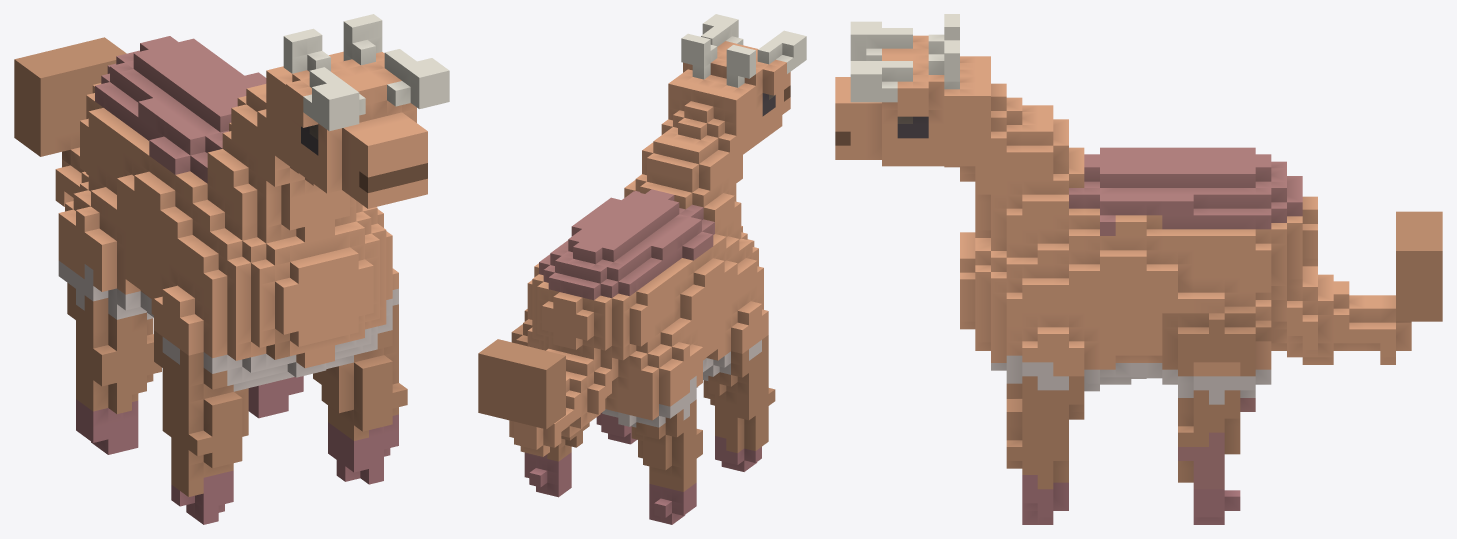
File: draconic-42-juvenile.glb
3 renders of one model, left to right at view 1: azimuth 30°, elevation 25°; view 2: azimuth 150°, elevation 25°; view 3: azimuth 270°, elevation 25°, orthographic. The views are drawn at different scales.
Parts seen in each view (by area): view 1: body, head, legFL, neck, legBL, legFR, tailTip, hornRight, hornLeft, hornNubRight, hornNubLeft, legBR (+2 smaller); view 2: body, neck, tailTip, legFL, legBL, head, tail, legBR, hornLeft, hornRight, hornNubRight, hornNubLeft (+2 smaller); view 3: body, neck, head, tail, legFR, legBR, tailTip, hornRight, hornLeft, browRight, hornNubRight, hornNubLeft (+1 smaller).
Part boxes in pixels (bbox=[...]): body: bbox=[58, 36, 398, 391]; head: bbox=[266, 51, 427, 208]; legFL: bbox=[154, 330, 248, 524]; neck: bbox=[207, 62, 356, 230]; legBL: bbox=[67, 283, 161, 454]; legFR: bbox=[313, 304, 407, 484]; tailTip: bbox=[14, 37, 126, 164]; hornRight: bbox=[343, 49, 449, 109]; hornLeft: bbox=[303, 67, 365, 131]; hornNubRight: bbox=[343, 14, 382, 65]; hornNubLeft: bbox=[283, 28, 330, 73]; legBR: bbox=[248, 376, 303, 418]; body: bbox=[511, 189, 768, 427]; neck: bbox=[624, 79, 755, 235]; tailTip: bbox=[478, 339, 565, 429]; legFL: bbox=[703, 335, 775, 471]; legBL: bbox=[631, 399, 702, 524]; head: bbox=[668, 41, 790, 149]; tail: bbox=[509, 348, 618, 456]; legBR: bbox=[524, 422, 589, 497]; hornLeft: bbox=[726, 30, 806, 87]; hornRight: bbox=[692, 14, 743, 79]; hornNubRight: bbox=[681, 33, 717, 67]; hornNubLeft: bbox=[726, 45, 755, 78]; body: bbox=[960, 147, 1317, 404]; neck: bbox=[944, 69, 1084, 243]; head: bbox=[835, 42, 990, 166]; tail: bbox=[1271, 266, 1411, 364]; legFR: bbox=[1006, 376, 1084, 524]; legBR: bbox=[1178, 390, 1255, 524]; tailTip: bbox=[1396, 211, 1442, 322]; hornRight: bbox=[850, 61, 959, 102]; hornLeft: bbox=[850, 21, 912, 60]; browRight: bbox=[897, 81, 928, 116]; hornNubRight: bbox=[928, 40, 959, 81]; hornNubLeft: bbox=[928, 14, 959, 54].
Bounding box in the file's own units: 0.63 × 1.44 × 1.76.
